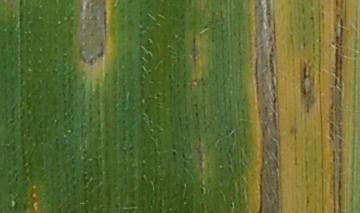tarspot: (167, 72, 175, 80), (198, 186, 206, 193)
